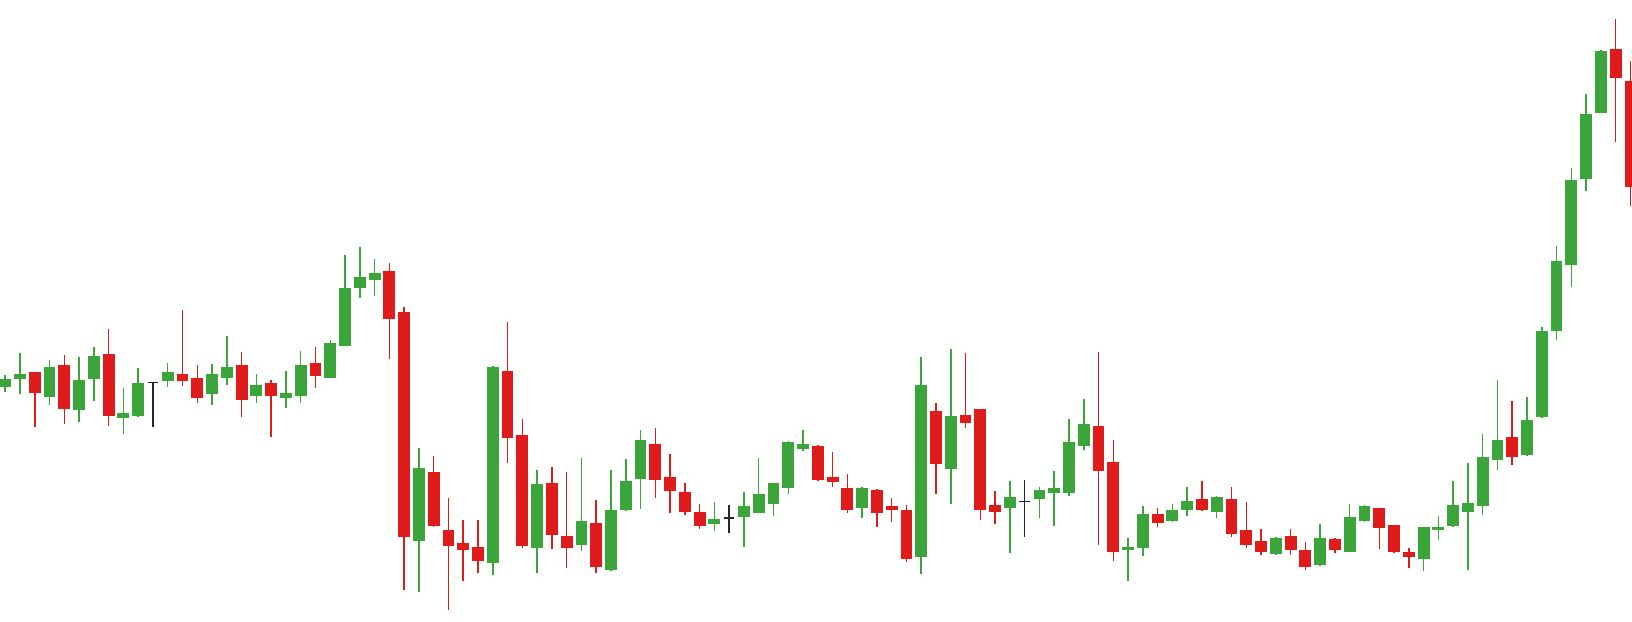buy: (1002, 476, 1133, 586), (1299, 518, 1430, 572)
sell: (176, 250, 398, 361)
